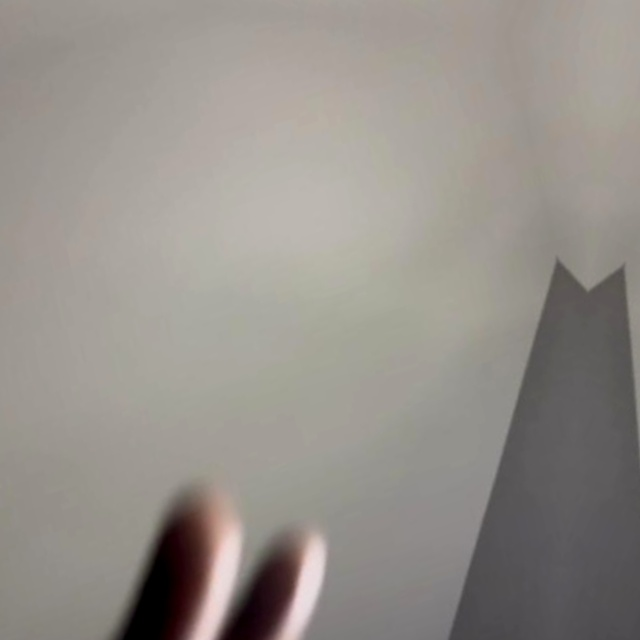Scissors: (0, 409, 405, 640)
